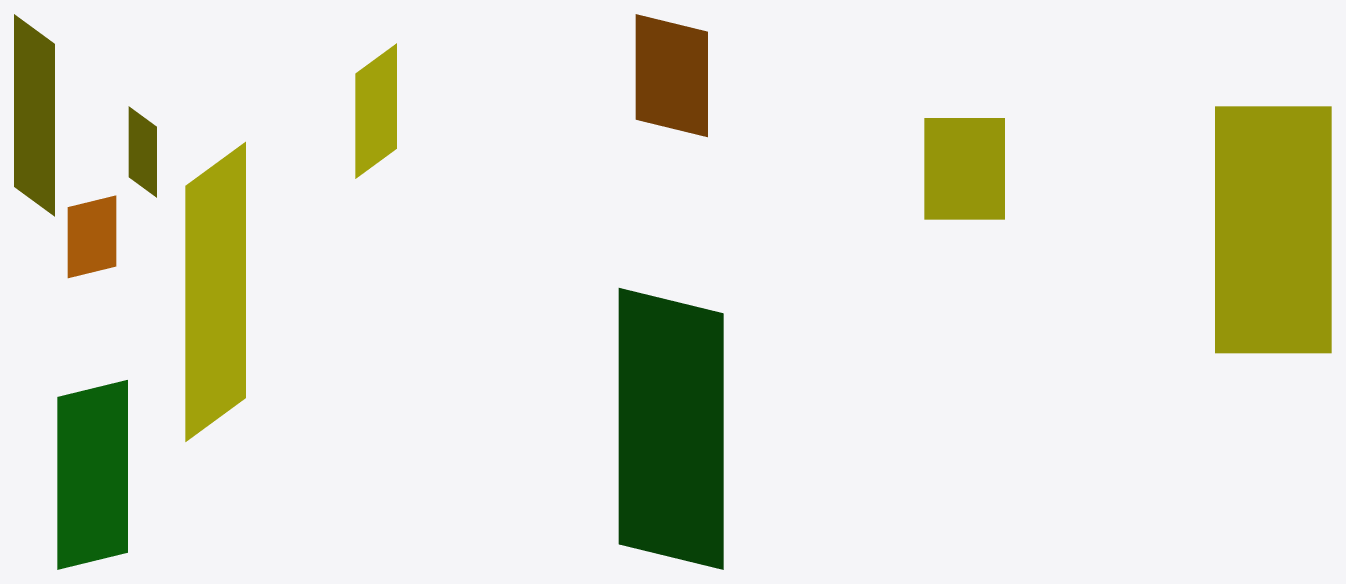
The model's file is FacadeALOD1.fbx.
3 renders of one model, left to right at view 1: azimuth 30°, elevation 25°; view 2: azimuth 150°, elevation 25°; view 3: azimuth 270°, elevation 25°, orthographic. The views are drawn at different scales.
Visible parts, largest first — view 1: FacadeADoorwayA, FacadeADoorwayB, FacadeAWindowA, FacadeAWindowB; view 2: FacadeADoorwayA, FacadeADoorwayB, FacadeAWindowA, FacadeAWindowB; view 3: FacadeADoorwayB, FacadeAWindowB.
Boxes of the visible parts, x1,y1,x2,y2 form: FacadeADoorwayA: [57, 380, 127, 569]; FacadeADoorwayB: [14, 14, 54, 216]; FacadeAWindowA: [67, 195, 116, 278]; FacadeAWindowB: [128, 106, 156, 197]; FacadeADoorwayA: [618, 288, 723, 569]; FacadeADoorwayB: [185, 141, 245, 441]; FacadeAWindowA: [635, 14, 707, 137]; FacadeAWindowB: [355, 43, 396, 178]; FacadeADoorwayB: [1215, 106, 1331, 353]; FacadeAWindowB: [924, 118, 1004, 219].
Size of what is drawn, in the model's own units: 257 by 566 by 564.
